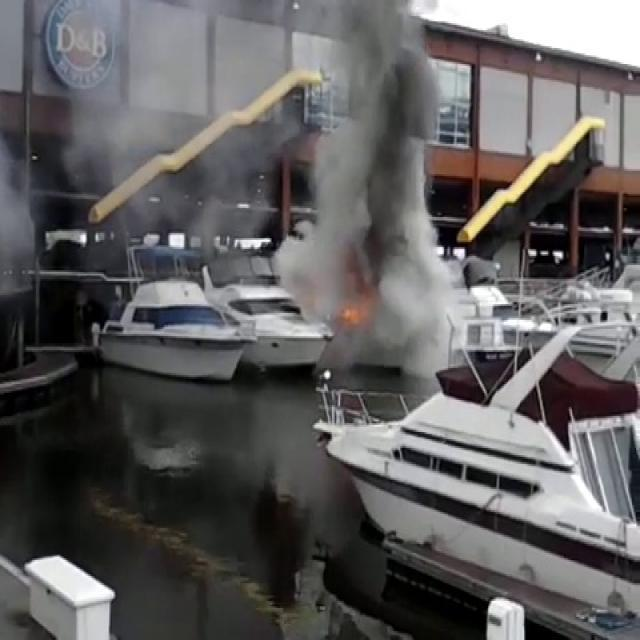Smoke: (274, 0, 474, 352), (54, 0, 265, 213)
